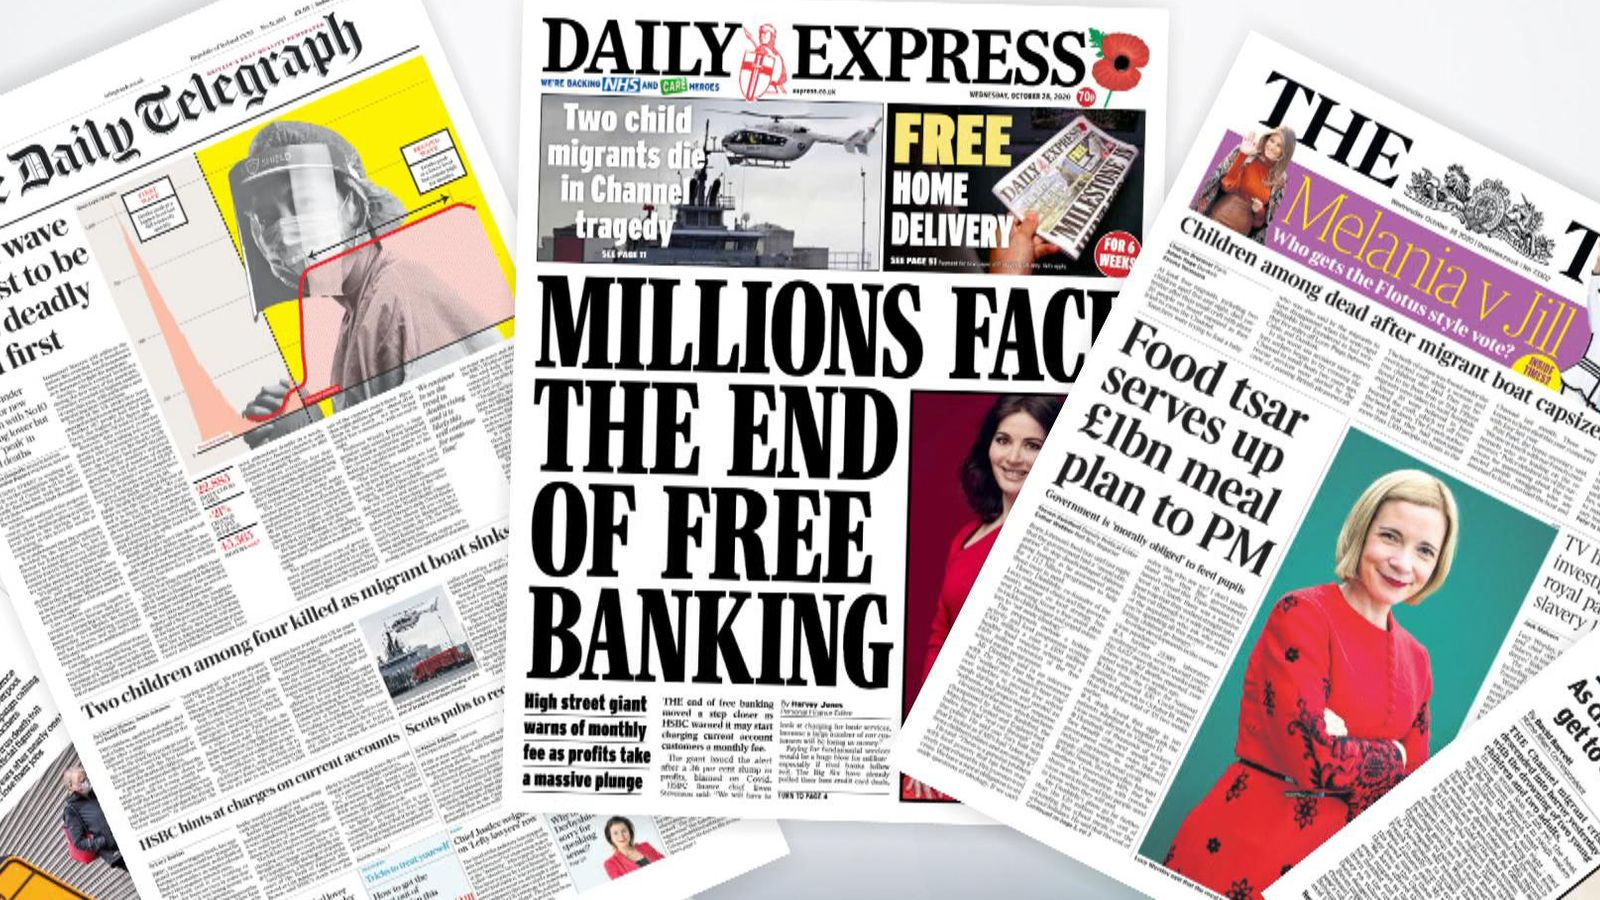news_paper: (1, 5, 868, 900), (800, 12, 1600, 868), (481, 1, 1221, 865)
